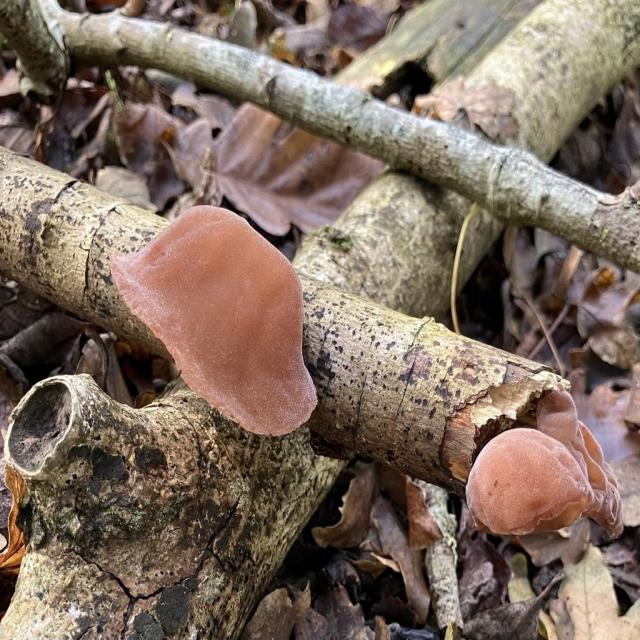Fase Muda: (460, 425, 596, 563), (540, 387, 630, 527)
Matang: (113, 201, 325, 437)
